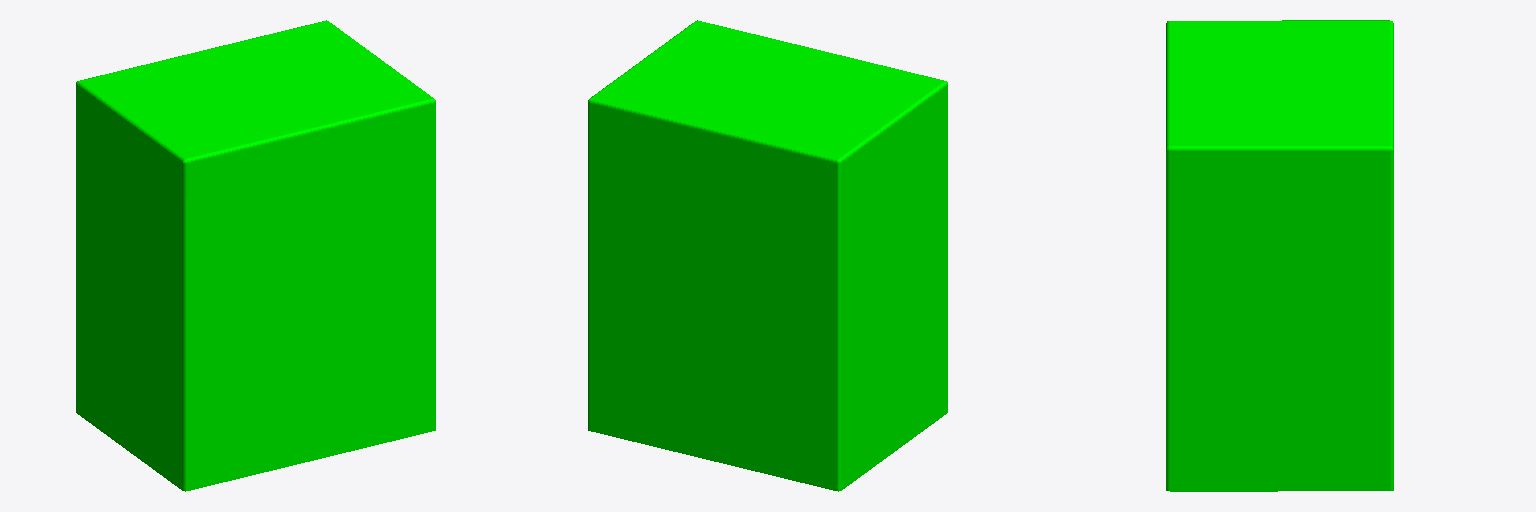
The robot description file, URDF, robot "box_non_target":
<robot name="box_non_target">
  <material name="darkgray"><color rgba="0.0 1.0 0.0 1"/></material>
  <link name="box">
    <inertial>
      <mass value="1.0" />
      <origin xyz="0 0 0.0" /> 
      <inertia  ixx="0.01" ixy="0.0"  ixz="0.0"  iyy="0.01"  iyz="0.0"  izz="0.01" />
    </inertial>
    <visual>
      <origin xyz="0 0 0" rpy="1.571 0 0" />
      <geometry>
        <mesh filename="box2-filled.obj" scale="0.001 0.001 0.001"/>
      </geometry>
      <material name="darkgray"/>
    </visual>
    <collision>
      <origin xyz="0 0 0" rpy="1.571 0 0" />
      <geometry>
        <mesh filename="box2-filled.obj" scale="0.001 0.001 0.001"/>
      </geometry>
    </collision>
  </link>
</robot>

--- What the picture shows (computed from the rendered views, not written in the file) ---
3 views of the same robot in one strip: view 1: azimuth 30°, elevation 25°; view 2: azimuth 150°, elevation 25°; view 3: azimuth 270°, elevation 25° (orthographic).
Model box_non_target with 1 links and 0 joints (none), rooted at box, posed every joint at zero.
Links seen in each view (by area): view 1: box; view 2: box; view 3: box.
Boxes of the visible links, <box> form: box: <box>76,20,435,491</box>; box: <box>588,20,947,491</box>; box: <box>1166,20,1393,491</box>.
Size in the robot's own frame: 0.08 by 0.06 by 0.1 metres.
1 mesh visuals loaded from 1 distinct referenced files (1 OBJ).